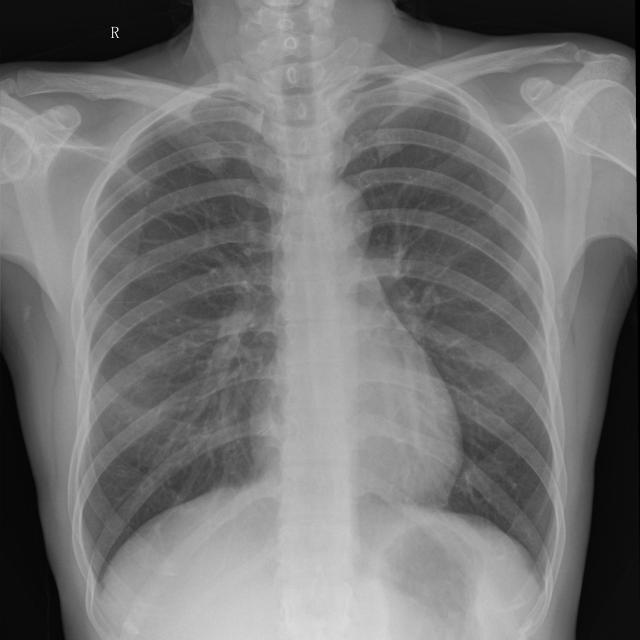no-pneumonia: (342, 74, 560, 569), (76, 90, 283, 574)
